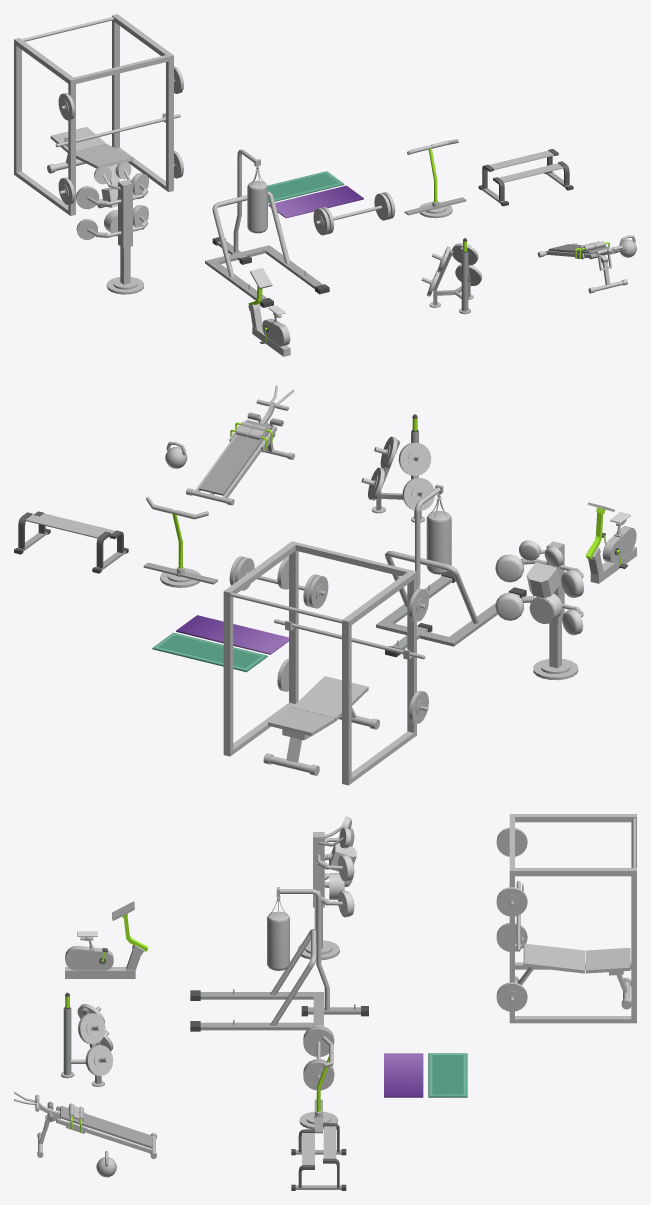
Rendered from gym_equipment_assets.fbx.
3 renders of one model, top to bottom at view 1: azimuth 30°, elevation 25°; view 2: azimuth 150°, elevation 25°; view 3: azimuth 270°, elevation 25°, orthographic. The views are drawn at different scales.
Parts seen in each view (by area): view 1: body (×2), Bench (×2), stand, pCylinder28, Cycle, Flat_mat, Adjustable_Bench1, Flat_mat1, Weight_holder, Boxing_bag_; view 2: body (×2), Bench (×2), Adjustable_Bench1, stand, Cycle, pCylinder28, Flat_mat, Flat_mat1, Boxing_bag_, Punching_bags3, Weight_holder, Weight_Lifting_Plates3 (+5 smaller); view 3: body (×2), Bench (×2), stand, Adjustable_Bench1, Cycle, pCylinder28, Flat_mat1, Flat_mat, Boxing_bag_, Weight_holder, Weight_Lifting_Plates11, Weight_Lifting_Plates12 (+5 smaller).
Part boxes in pixels (x1,y1,x2,y2): body (×2): (14,14,458,218); Bench (×2): (47,127,573,208); stand: (205,149,329,307); pCylinder28: (87,169,148,294); Cycle: (248,268,290,356); Flat_mat: (268,185,363,218); Adjustable_Bench1: (537,241,627,293); Flat_mat1: (268,171,344,203); Weight_holder: (421,238,474,314); Boxing_bag_: (247,170,267,233); body (×2): (146,496,428,785); Bench (×2): (14,511,379,775); Adjustable_Bench1: (186,385,294,505); stand: (376,484,526,657); Cycle: (586,502,636,583); pCylinder28: (521,541,583,680); Flat_mat: (176,615,288,654); Flat_mat1: (152,632,267,672); Boxing_bag_: (426,498,451,574); Punching_bags3: (526,562,560,598); Weight_holder: (361,414,425,522); Weight_Lifting_Plates3: (398,442,431,475); body (×2): (299,814,636,1129); Bench (×2): (291,943,631,1190); stand: (190,887,368,1031); Adjustable_Bench1: (14,1091,156,1158); Cycle: (65,901,148,978); pCylinder28: (297,827,343,960); Flat_mat1: (428,1053,467,1097); Flat_mat: (384,1053,423,1097); Boxing_bag_: (267,900,289,970); Weight_holder: (61,992,109,1086); Weight_Lifting_Plates11: (496,887,527,916); Weight_Lifting_Plates12: (496,982,527,1011).
Bounding box in the file's own units: 28.94 × 8.09 × 29.37.
